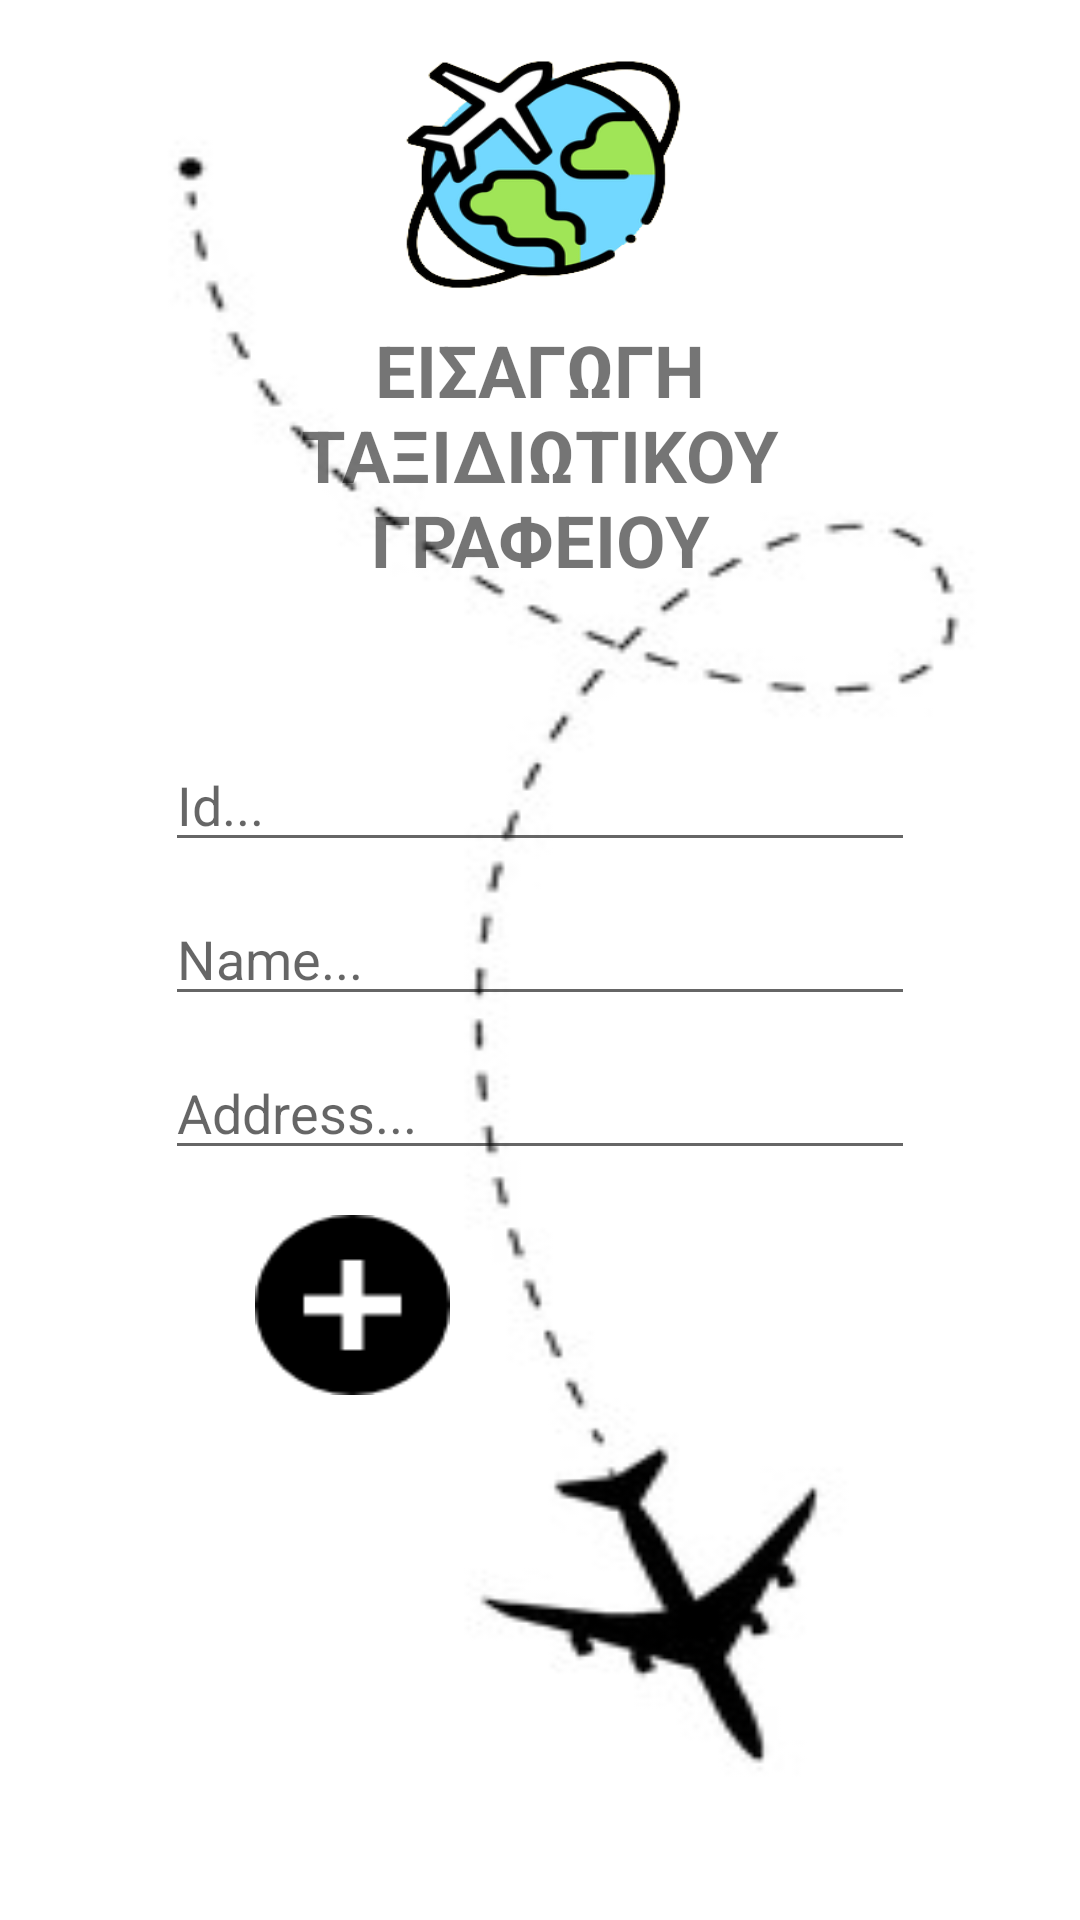

Named icons in this screenshot (1080 x 1920) and their bounding boxes, (x1, y1, x2, y2):
insert: (255, 1215, 450, 1395)
